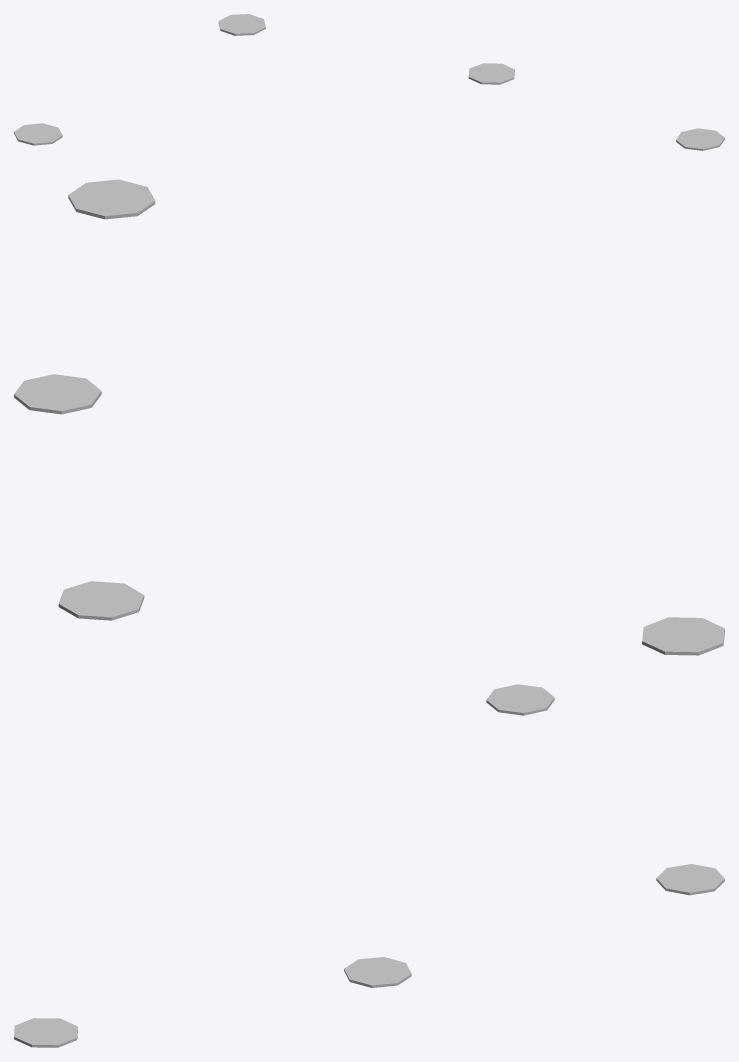
The model's file is BasePersonalidades.gltf.
The picture shows the model from 3 angles, top to bottom: view 1: azimuth 30°, elevation 25°; view 2: azimuth 150°, elevation 25°; view 3: azimuth 270°, elevation 25°; orthographic projection. The views are drawn at different scales.
Visible parts, largest first — view 1: Base.013; view 2: Base.013; view 3: Base.013.
Boxes of the visible parts, x1,y1,x2,y2 form: Base.013: (14,14,724,150); Base.013: (14,179,724,655); Base.013: (14,684,724,1047).
Bounding box in the file's own units: 30.83 × 0.1 × 25.67.
Materials: 1 (1 with a texture image).
